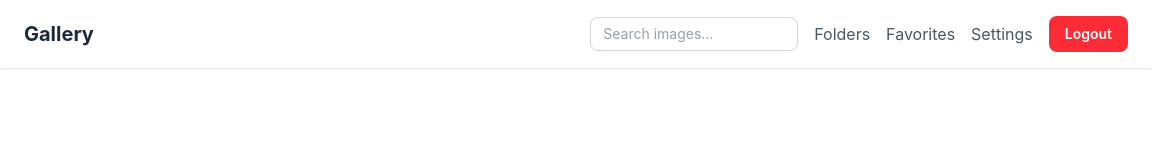
Test: NavBar › closes Settings dropdown when S3 Credentials link is clicked
Click the button with test id "settings-menu-button" at (1002,34), box [971,22,1033,46]
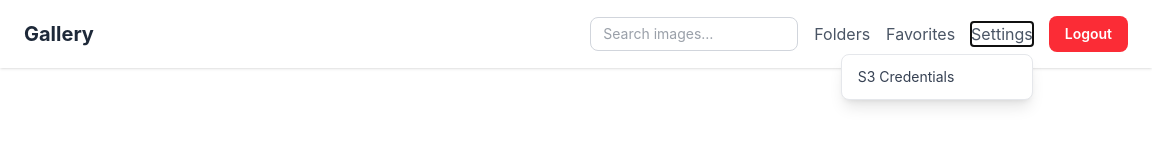
Click the link "S3 Credentials" at (906,76), box [858,68,954,85]
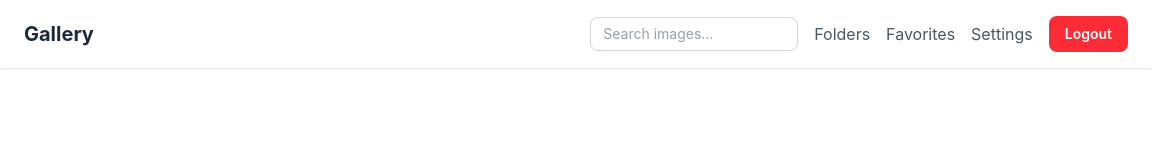
Check: the element with test id "settings-dropdown" is gone
